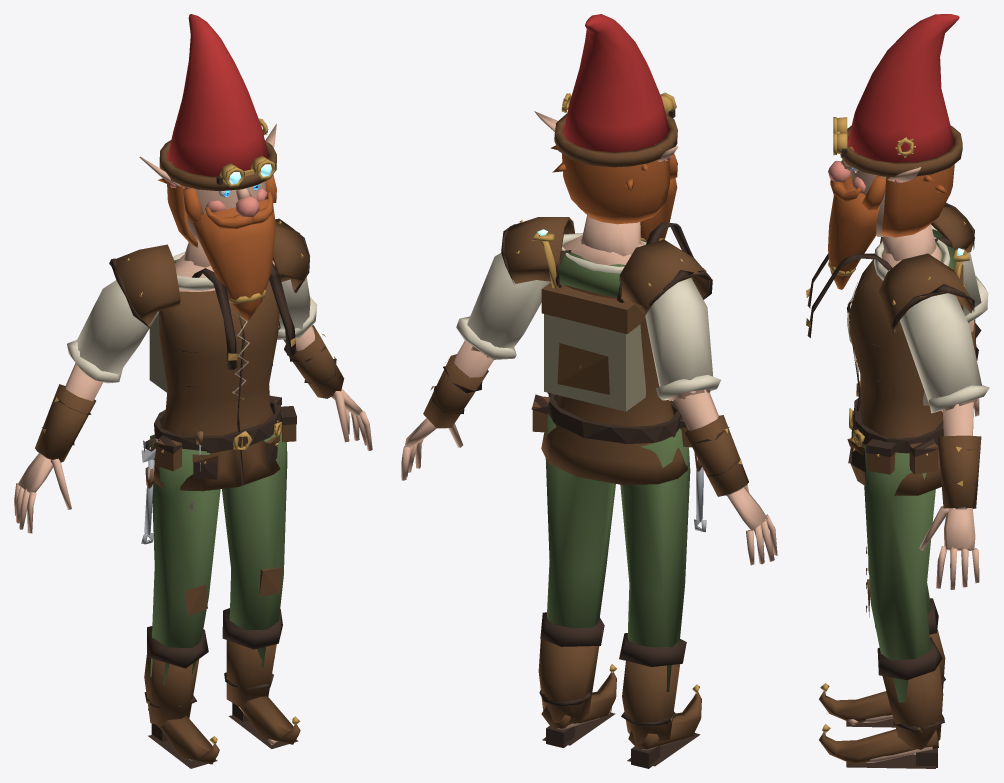
File: hero_12.glb
The picture shows the model from 3 angles, left to right: view 1: azimuth 30°, elevation 25°; view 2: azimuth 150°, elevation 25°; view 3: azimuth 270°, elevation 25°; orthographic projection. The views are drawn at different scales.
Visible parts, largest first — view 1: hero_12__OW_Armor_TinkerLeather_01_Chest_d, hero_12__OW_Armor_TinkerLeather_01_Legs_d, hero_12__OW_Armor_TinkerLeather_01_Head_d, hero_12__OW_Armor_TinkerLeather_01_Feet_d, hero_12__OW_Armor_TinkerLeather_01_Arms_d, hero_12__OW_Char_Gnome_01_Body_Head_d, hero_12__OW_Armor_TinkerLeather_01_Shoulders_d, hero_12__OW_Char_Gnome_01_Body_Hands_d, hero_12__OW_Armor_TinkerLeather_01_Back_d, hero_12__OW_Char_Gnome_01_Body_Arms_d, hero_12__OW_Armor_TinkerLeather_01_Weapon_Hip_d; view 2: hero_12__OW_Armor_TinkerLeather_01_Legs_d, hero_12__OW_Armor_TinkerLeather_01_Arms_d, hero_12__OW_Armor_TinkerLeather_01_Feet_d, hero_12__OW_Armor_TinkerLeather_01_Back_d, hero_12__OW_Armor_TinkerLeather_01_Head_d, hero_12__OW_Armor_TinkerLeather_01_Chest_d, hero_12__OW_Char_Gnome_01_Body_Head_d, hero_12__OW_Armor_TinkerLeather_01_Shoulders_d, hero_12__OW_Char_Gnome_01_Body_Hands_d, hero_12__OW_Char_Gnome_01_Body_Arms_d, hero_12__OW_Char_Gnome_01_Body_Torso_d; view 3: hero_12__OW_Armor_TinkerLeather_01_Chest_d, hero_12__OW_Armor_TinkerLeather_01_Head_d, hero_12__OW_Armor_TinkerLeather_01_Legs_d, hero_12__OW_Armor_TinkerLeather_01_Arms_d, hero_12__OW_Char_Gnome_01_Body_Head_d, hero_12__OW_Armor_TinkerLeather_01_Feet_d, hero_12__OW_Armor_TinkerLeather_01_Shoulders_d, hero_12__OW_Char_Gnome_01_Body_Hands_d, hero_12__OW_Armor_TinkerLeather_01_Back_d, hero_12__OW_Char_Gnome_01_Body_Arms_d, hero_12__OW_Char_Gnome_01_Body_Feet_d.
Part boxes in pixels (bbox=[...]): hero_12__OW_Armor_TinkerLeather_01_Chest_d: bbox=[153, 252, 296, 491]; hero_12__OW_Armor_TinkerLeather_01_Legs_d: bbox=[150, 427, 287, 685]; hero_12__OW_Armor_TinkerLeather_01_Head_d: bbox=[159, 14, 276, 191]; hero_12__OW_Armor_TinkerLeather_01_Feet_d: bbox=[144, 608, 300, 768]; hero_12__OW_Armor_TinkerLeather_01_Arms_d: bbox=[35, 277, 344, 462]; hero_12__OW_Char_Gnome_01_Body_Head_d: bbox=[139, 124, 276, 320]; hero_12__OW_Armor_TinkerLeather_01_Shoulders_d: bbox=[109, 218, 309, 328]; hero_12__OW_Char_Gnome_01_Body_Hands_d: bbox=[14, 388, 372, 533]; hero_12__OW_Armor_TinkerLeather_01_Back_d: bbox=[149, 259, 296, 392]; hero_12__OW_Char_Gnome_01_Body_Arms_d: bbox=[38, 260, 314, 459]; hero_12__OW_Armor_TinkerLeather_01_Weapon_Hip_d: bbox=[141, 437, 159, 544]; hero_12__OW_Armor_TinkerLeather_01_Legs_d: bbox=[545, 413, 690, 691]; hero_12__OW_Armor_TinkerLeather_01_Arms_d: bbox=[423, 253, 748, 496]; hero_12__OW_Armor_TinkerLeather_01_Feet_d: bbox=[538, 612, 701, 768]; hero_12__OW_Armor_TinkerLeather_01_Back_d: bbox=[532, 222, 693, 411]; hero_12__OW_Armor_TinkerLeather_01_Head_d: bbox=[554, 14, 677, 167]; hero_12__OW_Armor_TinkerLeather_01_Chest_d: bbox=[531, 233, 691, 484]; hero_12__OW_Char_Gnome_01_Body_Head_d: bbox=[534, 111, 677, 256]; hero_12__OW_Armor_TinkerLeather_01_Shoulders_d: bbox=[501, 217, 712, 315]; hero_12__OW_Char_Gnome_01_Body_Hands_d: bbox=[401, 418, 777, 565]; hero_12__OW_Char_Gnome_01_Body_Arms_d: bbox=[454, 340, 744, 495]; hero_12__OW_Char_Gnome_01_Body_Torso_d: bbox=[562, 235, 644, 265]; hero_12__OW_Armor_TinkerLeather_01_Chest_d: bbox=[847, 237, 950, 495]; hero_12__OW_Armor_TinkerLeather_01_Head_d: bbox=[833, 14, 962, 176]; hero_12__OW_Armor_TinkerLeather_01_Legs_d: bbox=[862, 443, 935, 702]; hero_12__OW_Armor_TinkerLeather_01_Arms_d: bbox=[900, 225, 989, 508]; hero_12__OW_Char_Gnome_01_Body_Head_d: bbox=[828, 132, 954, 289]; hero_12__OW_Armor_TinkerLeather_01_Feet_d: bbox=[819, 598, 945, 768]; hero_12__OW_Armor_TinkerLeather_01_Shoulders_d: bbox=[878, 202, 974, 334]; hero_12__OW_Char_Gnome_01_Body_Hands_d: bbox=[919, 398, 979, 589]; hero_12__OW_Armor_TinkerLeather_01_Back_d: bbox=[806, 229, 969, 405]; hero_12__OW_Char_Gnome_01_Body_Arms_d: bbox=[932, 228, 976, 509]; hero_12__OW_Char_Gnome_01_Body_Feet_d: bbox=[848, 714, 932, 762].
Size of the model in its own units: 0.6517 by 1.26 by 0.2874.
